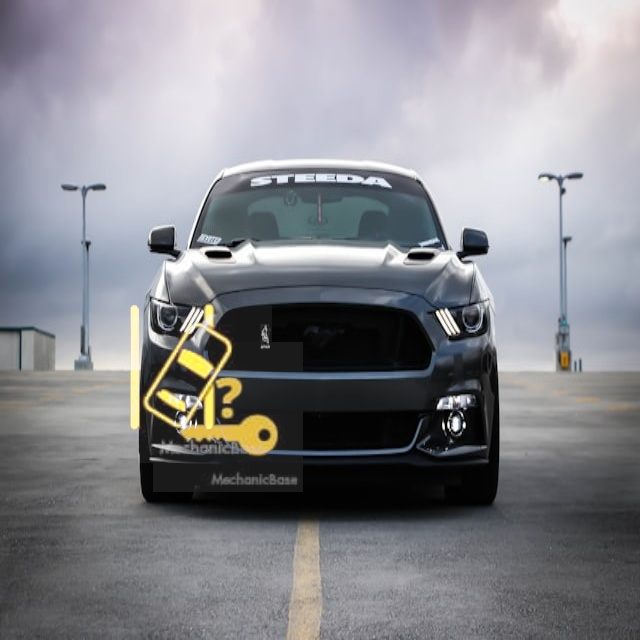symbol: (88, 279, 272, 463), (153, 342, 303, 492)
